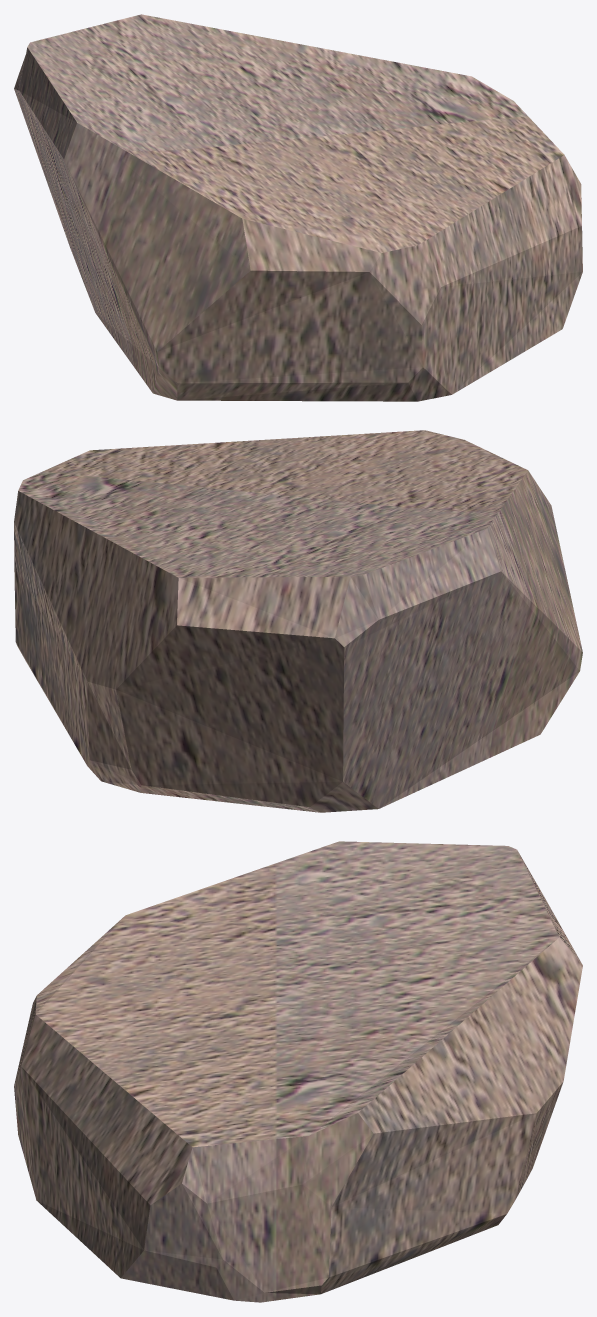
Rendered from stone.glb.
The picture shows the model from 3 angles, top to bottom: view 1: azimuth 30°, elevation 25°; view 2: azimuth 150°, elevation 25°; view 3: azimuth 270°, elevation 25°; orthographic projection. The views are drawn at different scales.
Visible parts, largest first — view 1: stone1_tha; view 2: stone1_tha; view 3: stone1_tha.
Boxes of the visible parts, x1,y1,x2,y2 form: stone1_tha: (14, 14, 582, 401); stone1_tha: (14, 430, 582, 812); stone1_tha: (14, 841, 582, 1302).
Bounding box in the file's own units: 422 × 220 × 439.
Materials: 1 (1 with a texture image).
